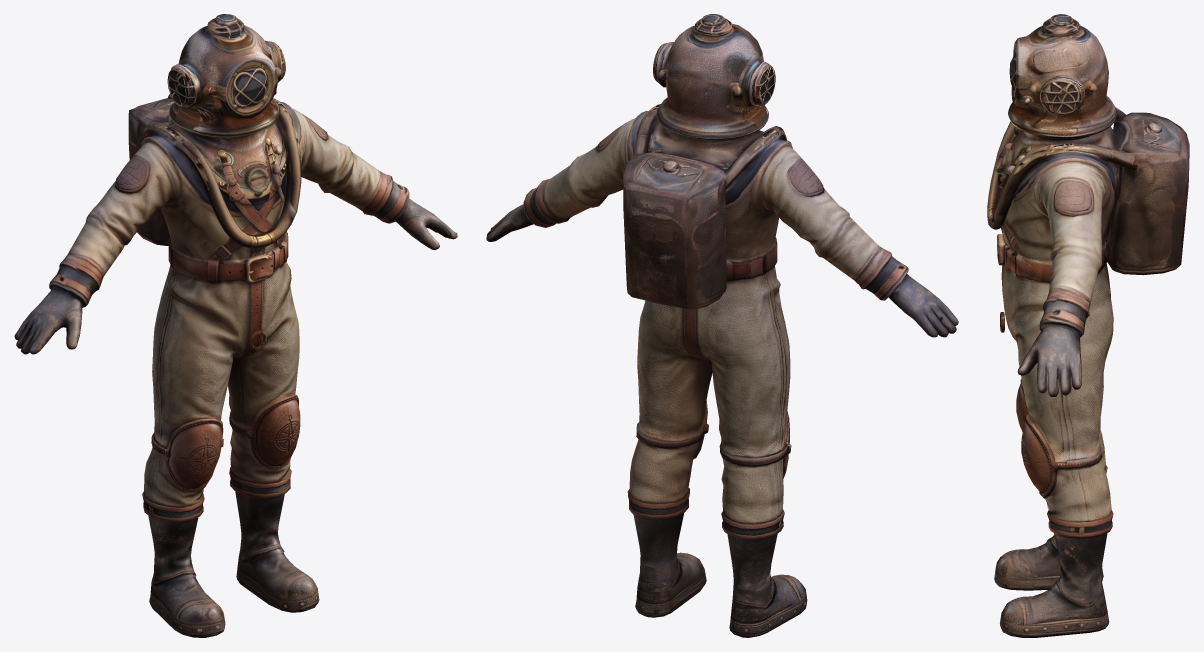
File: helmet.glb
3 views of the same model, side by side, from view 1: azimuth 30°, elevation 25°; view 2: azimuth 150°, elevation 25°; view 3: azimuth 270°, elevation 25° (orthographic).
Visible parts, largest first — view 1: 20260926213353_5f876029.fbx; view 2: 20260926213353_5f876029.fbx; view 3: 20260926213353_5f876029.fbx.
Boxes of the visible parts, x1,y1,x2,y2 form: 20260926213353_5f876029.fbx: (14, 14, 457, 637); 20260926213353_5f876029.fbx: (486, 14, 958, 637); 20260926213353_5f876029.fbx: (987, 14, 1189, 637).
Size of the model in its own units: 3.46 by 4.34 by 1.36.
1 material, 1 textured.
